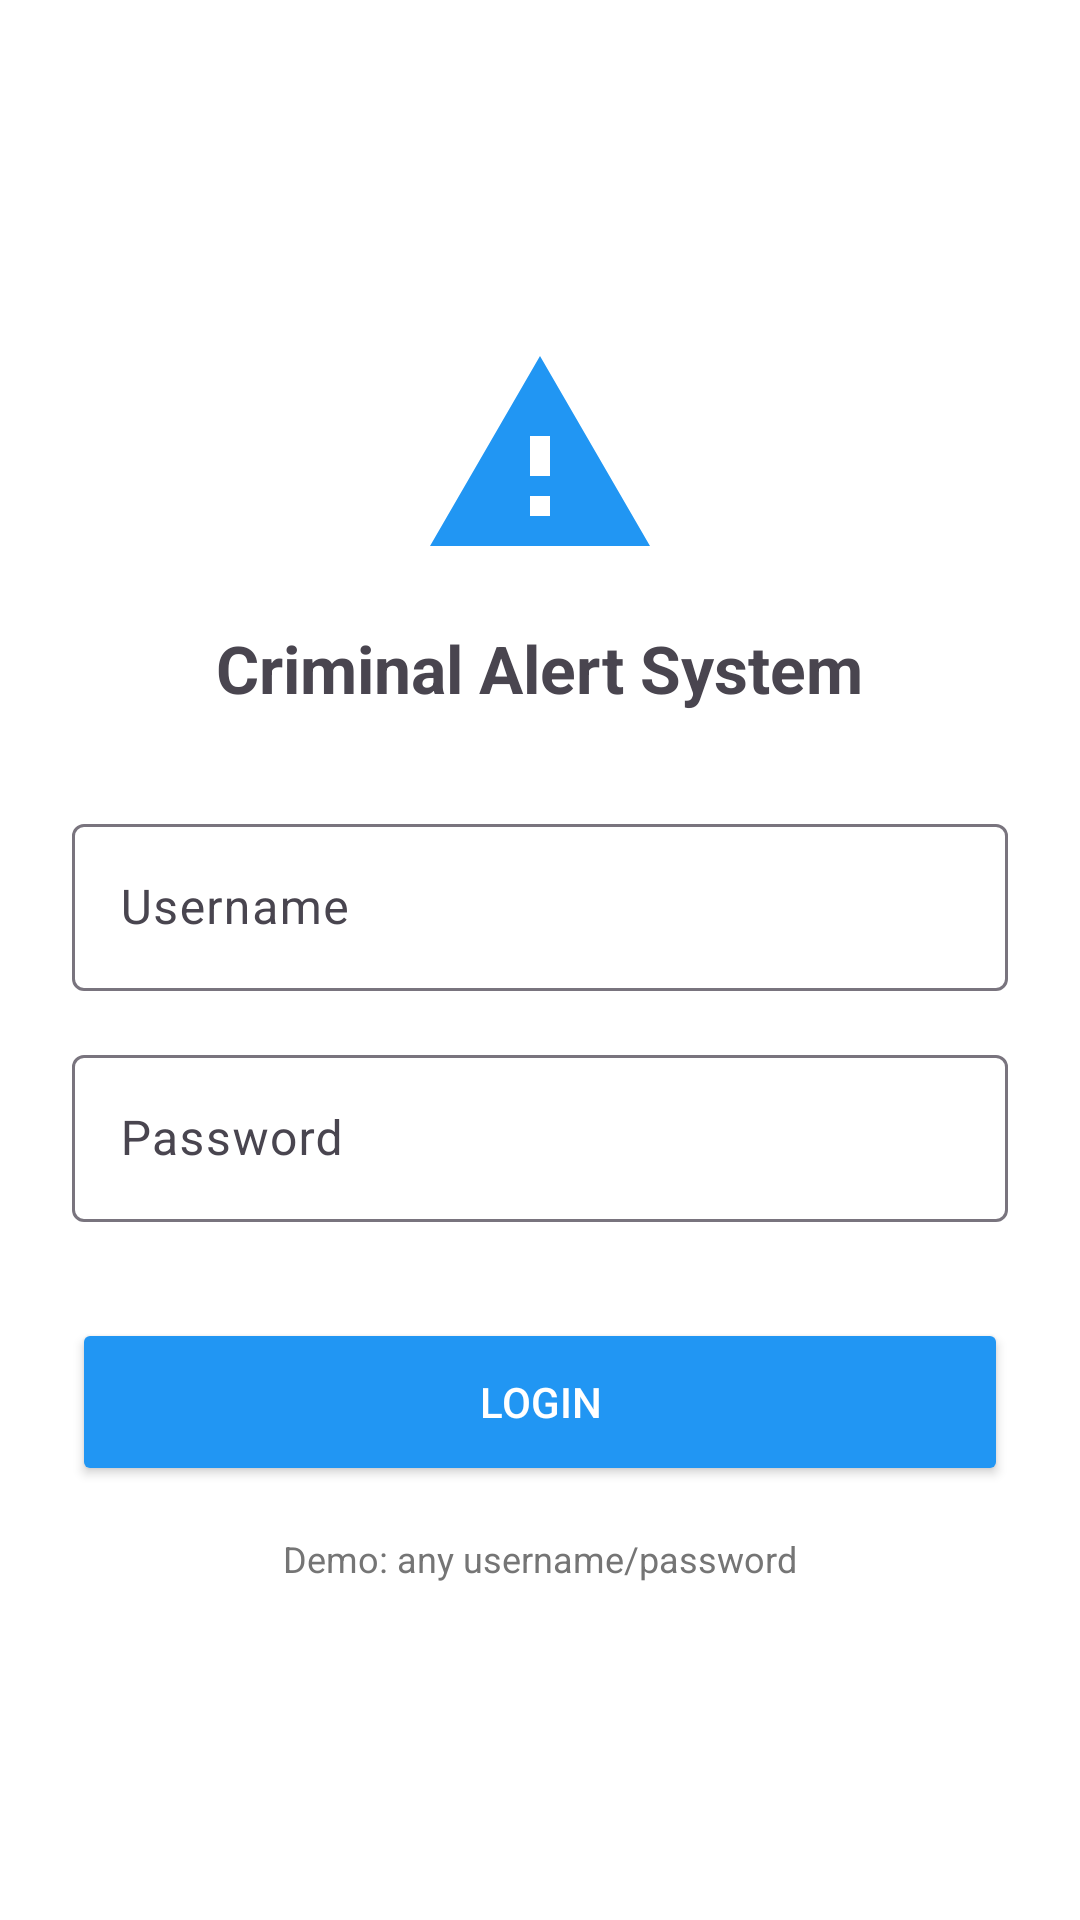

Named icons in this screenshot (1080 × 1920) and their centers, (x,y):
alert custom: (540,451)
